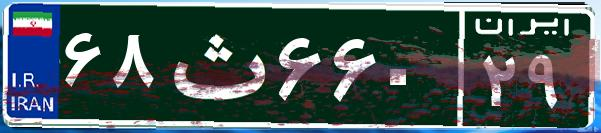0: (385, 28, 445, 110)
2: (475, 38, 525, 113)
6: (273, 28, 330, 110), (330, 28, 385, 110), (57, 26, 110, 107)
8: (110, 28, 158, 105)
9: (525, 38, 570, 115)
ث: (158, 15, 273, 115)
